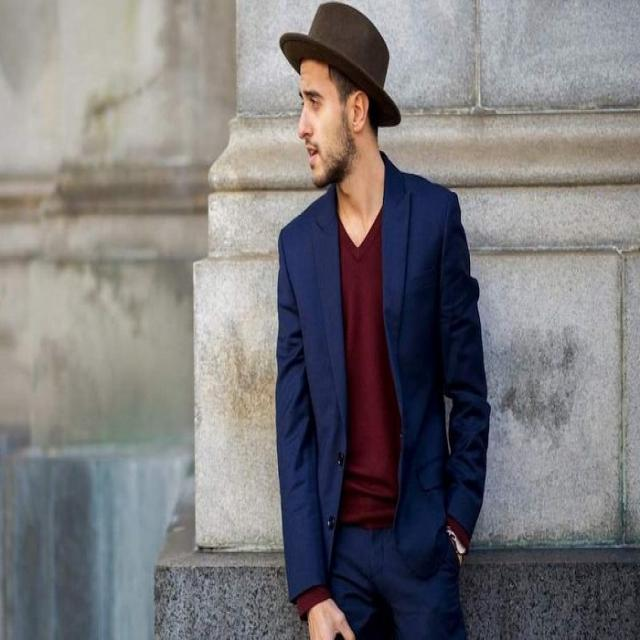clothes: (264, 144, 490, 640)
